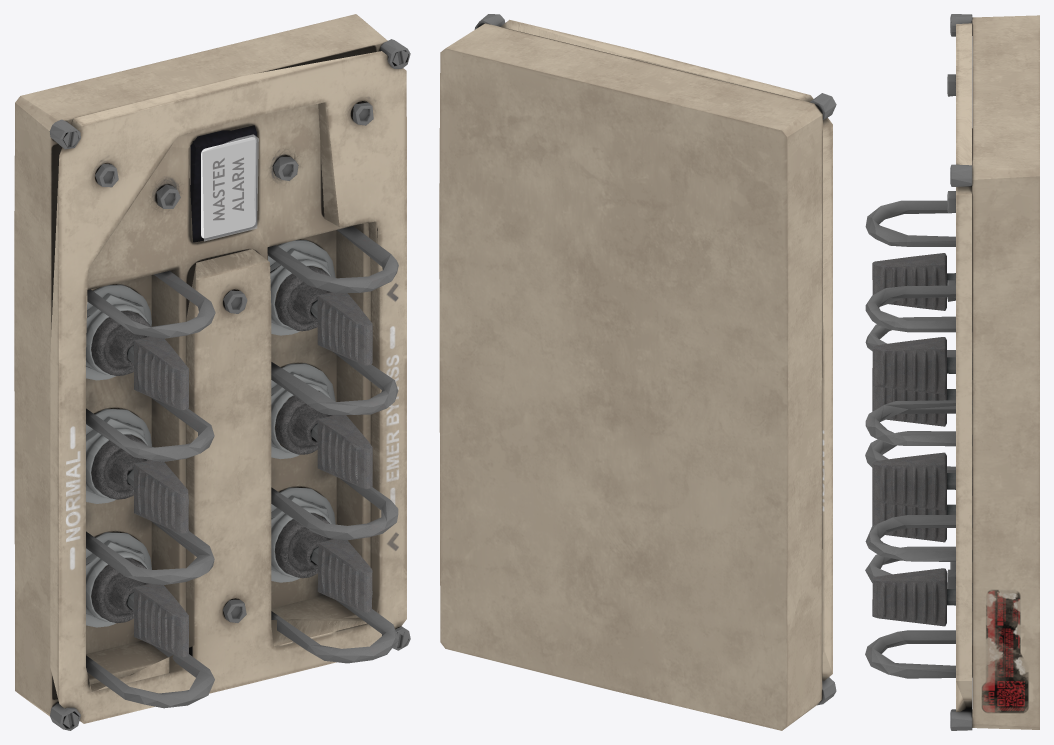
3 renders of one model, left to right at view 1: azimuth 30°, elevation 25°; view 2: azimuth 150°, elevation 25°; view 3: azimuth 270°, elevation 25°, orthographic. The views are drawn at different scales.
Parts seen in each view (by area): view 1: O_ip_sw__Body, O_ip_sw__Body3, O_ip_sw__Body8, O_ip_sw__Body7, O_ip_sw__Caaa, O_ip_sw__Body2, O_ip_sw__Body6, O_ip_sw__Body5, O_ip_sw__Body4; view 2: O_ip_sw__Body3, O_ip_sw__Body, O_ip_sw__Body5; view 3: O_ip_sw__Body3, O_ip_sw__Body8, O_ip_sw__Body7, O_ip_sw__Body, O_ip_sw__Body5, O_ip_sw__Body6.
Part boxes in pixels (x1,y1,x2,y2): O_ip_sw__Body: (50,51,406,723); O_ip_sw__Body3: (14,14,387,716); O_ip_sw__Body8: (86,240,372,657); O_ip_sw__Body7: (86,226,398,708); O_ip_sw__Caaa: (202,134,258,241); O_ip_sw__Body2: (201,137,255,238); O_ip_sw__Body6: (95,102,373,622); O_ip_sw__Body5: (49,39,410,730); O_ip_sw__Body4: (190,125,256,242); O_ip_sw__Body3: (439,23,822,730); O_ip_sw__Body: (500,19,832,680); O_ip_sw__Body5: (474,14,836,705); O_ip_sw__Body3: (972,15,1039,729); O_ip_sw__Body8: (872,253,972,626); O_ip_sw__Body7: (865,200,972,678); O_ip_sw__Body: (956,23,971,711); O_ip_sw__Body5: (950,14,972,730); O_ip_sw__Body6: (947,74,955,588).
Bounding box in the file's own units: 0.2511 × 0.4126 × 0.1157.
Materials: 9 (8 with a texture image).
